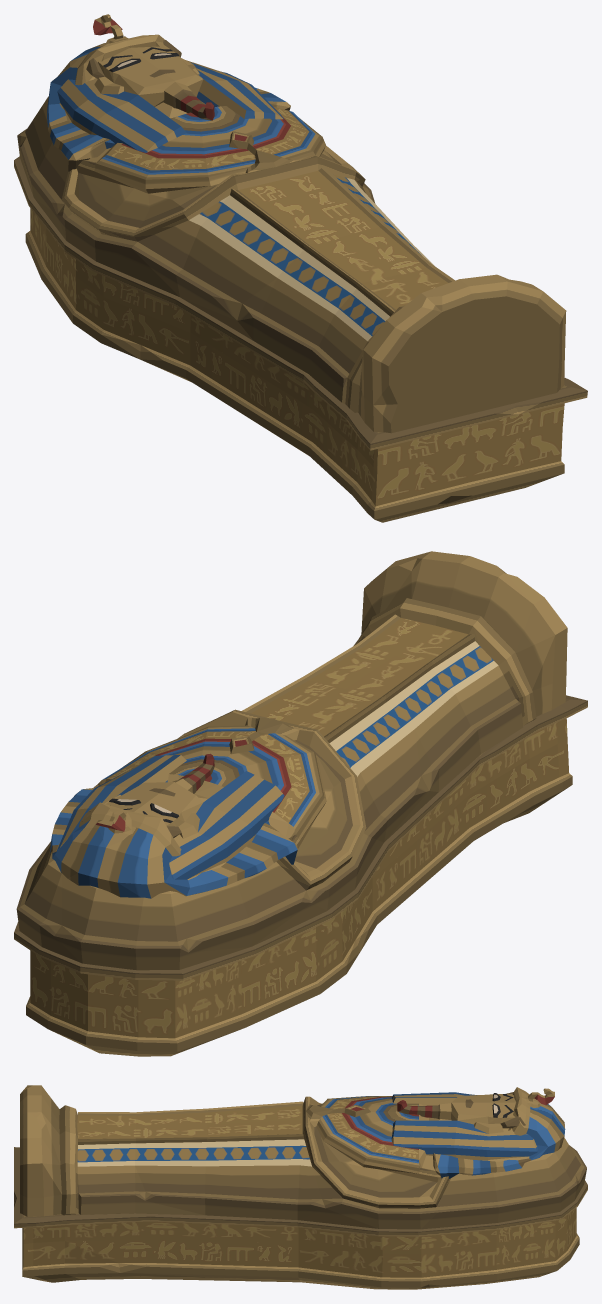
The model's file is SM_Prop_Sarcophagus_Holder_01.fbx.
The picture shows the model from 3 angles, top to bottom: view 1: azimuth 30°, elevation 25°; view 2: azimuth 150°, elevation 25°; view 3: azimuth 270°, elevation 25°; orthographic projection. The views are drawn at different scales.
Visible parts, largest first — view 1: SM_Prop_Sarcophagus_Holder_01; view 2: SM_Prop_Sarcophagus_Holder_01; view 3: SM_Prop_Sarcophagus_Holder_01.
Part boxes in pixels (x1,y1,x2,y2): SM_Prop_Sarcophagus_Holder_01: (14, 14, 587, 522); SM_Prop_Sarcophagus_Holder_01: (14, 551, 587, 1056); SM_Prop_Sarcophagus_Holder_01: (14, 1085, 587, 1289).
Bounding box in the file's own units: 131 × 110 × 339.
